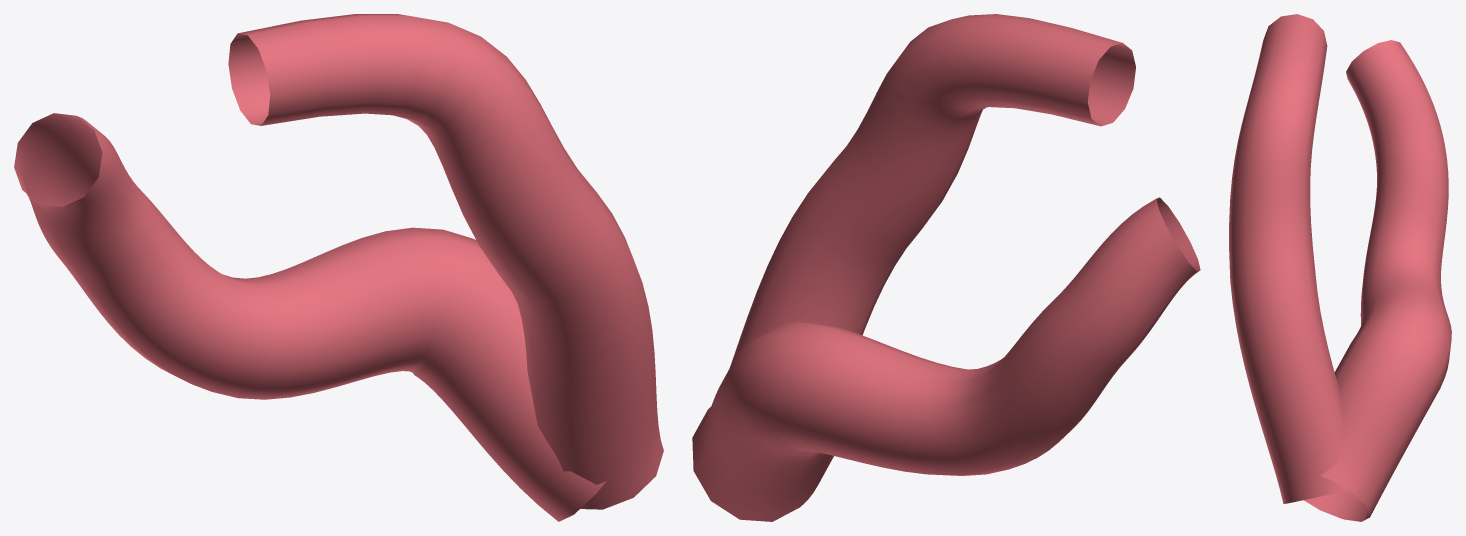
3 renders of one model, left to right at view 1: azimuth 30°, elevation 25°; view 2: azimuth 150°, elevation 25°; view 3: azimuth 270°, elevation 25°, orthographic. The views are drawn at different scales.
Visible parts, largest first — view 1: ZA_bf3d76813d6cf41e; view 2: ZA_bf3d76813d6cf41e; view 3: ZA_bf3d76813d6cf41e.
Boxes of the visible parts, x1,y1,x2,y2 form: ZA_bf3d76813d6cf41e: (14,14,663,521); ZA_bf3d76813d6cf41e: (692,14,1200,521); ZA_bf3d76813d6cf41e: (1229,14,1451,521).
Size of the model in its own units: 0.0127 by 0.0121 by 0.00622.
